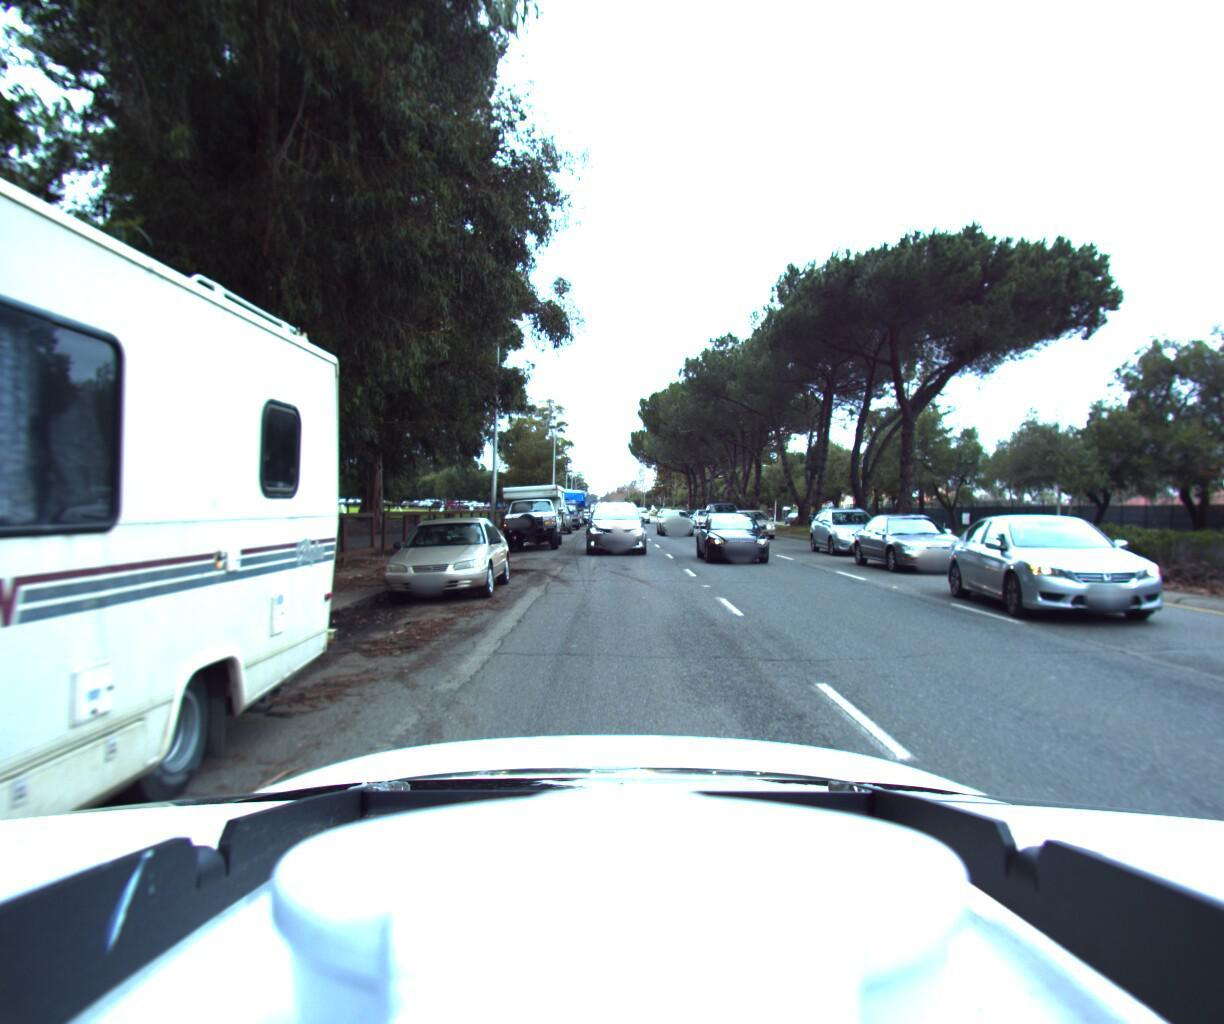bicycle: (495, 513, 508, 533)
car: (939, 514, 1186, 631), (371, 513, 518, 615), (843, 506, 986, 583), (803, 503, 899, 559), (698, 511, 787, 570), (580, 493, 651, 553), (724, 505, 782, 539), (695, 499, 734, 533), (660, 506, 698, 538), (547, 497, 580, 532), (537, 502, 572, 535), (634, 506, 654, 523)
other_vehicle: (488, 479, 569, 555), (546, 486, 585, 528), (556, 488, 591, 526)
